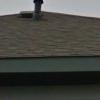Chimney: (25, 1, 49, 24)
